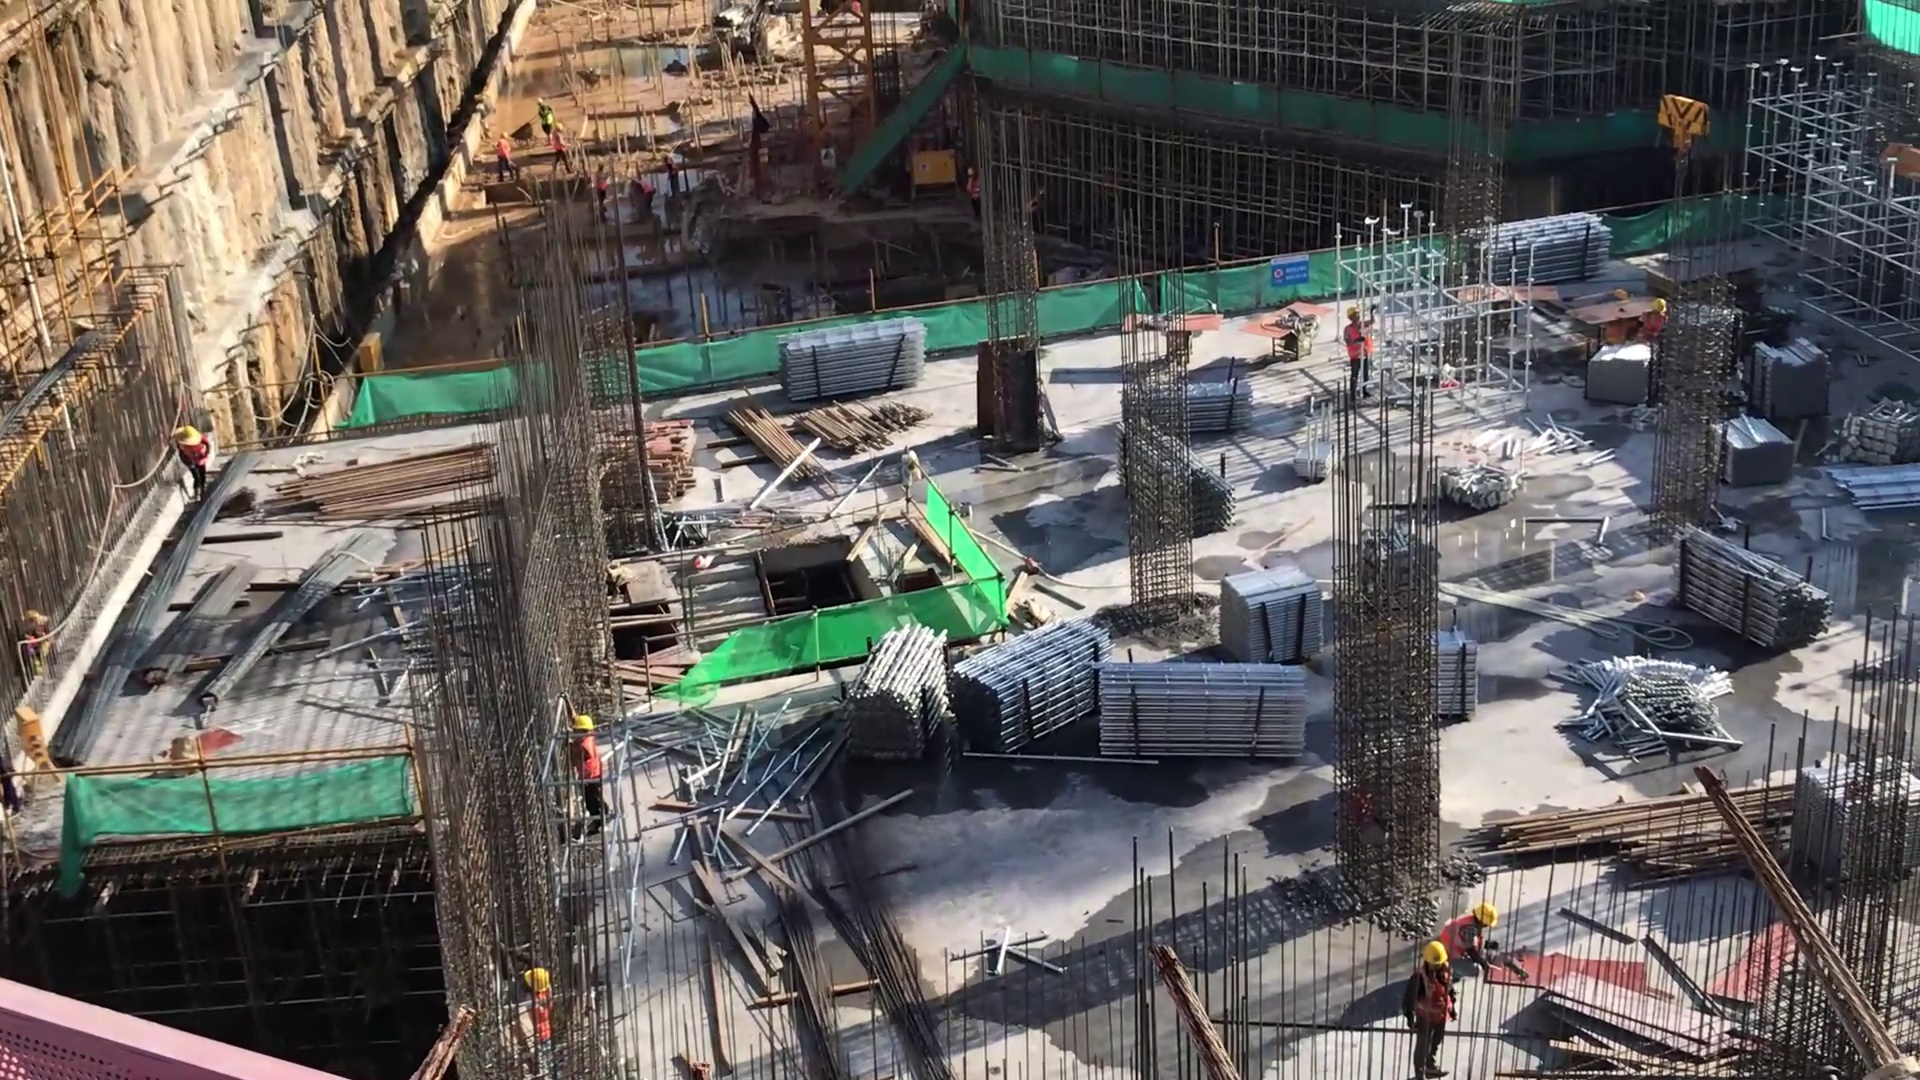helmet: (1415, 938, 1454, 973), (1471, 900, 1501, 942), (562, 712, 599, 742), (521, 967, 555, 998), (1649, 294, 1670, 316), (1339, 304, 1361, 320)
person: (1400, 938, 1466, 1080), (561, 701, 617, 837), (510, 966, 567, 1078), (1430, 895, 1505, 979), (1333, 297, 1380, 397), (170, 420, 216, 506), (1639, 292, 1674, 350)
vest: (1406, 971, 1455, 1033), (522, 988, 563, 1055), (571, 732, 605, 782), (1439, 911, 1473, 959), (1340, 323, 1376, 364), (173, 434, 209, 473), (1637, 312, 1666, 345)
